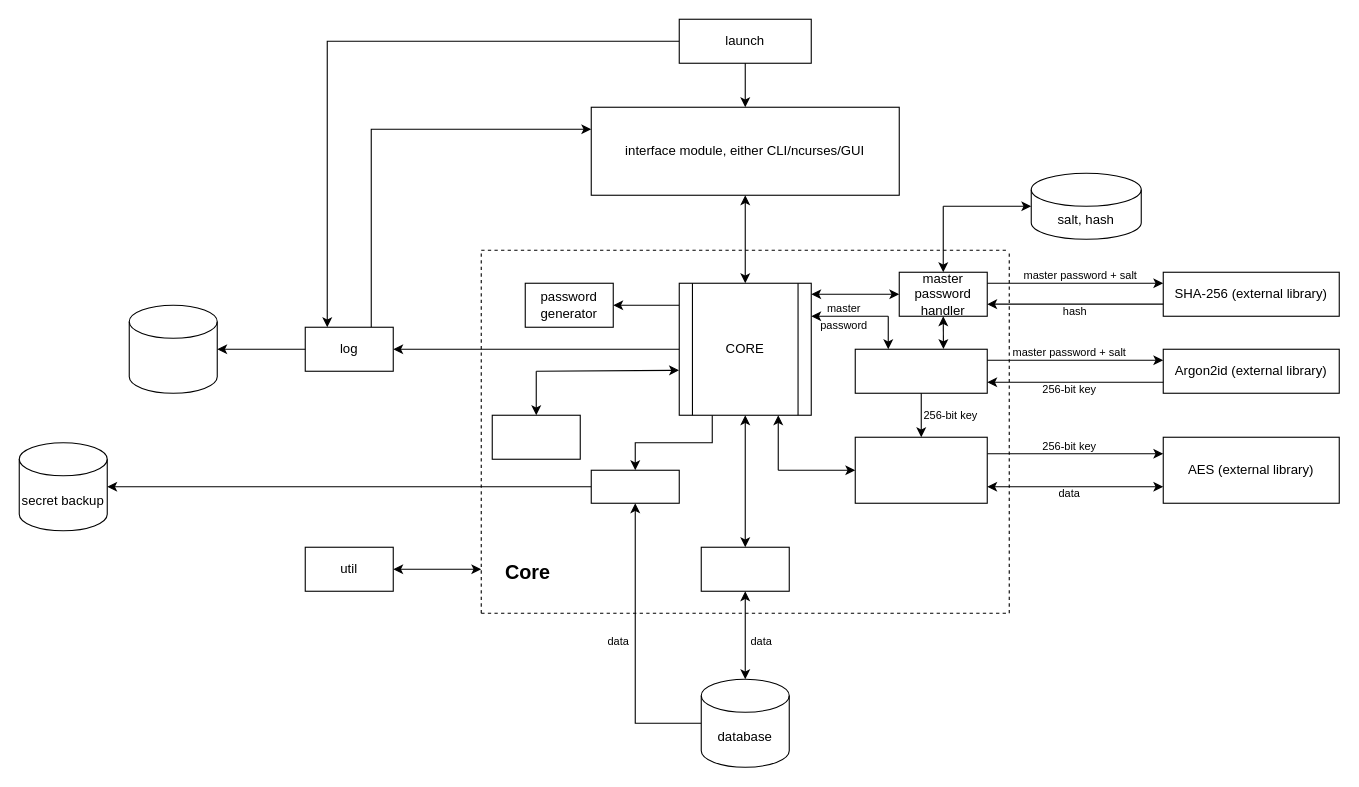
This 1359x787 diagram has some shape labels left out. The shapes that lost their labels are listed below. From the top down, each one's centre as x and y in pixels, then its label:
point (172, 348): logs
point (920, 370): authorization
point (535, 436): password safety check
point (634, 486): backup
point (920, 469): data handler
point (744, 568): label handler
